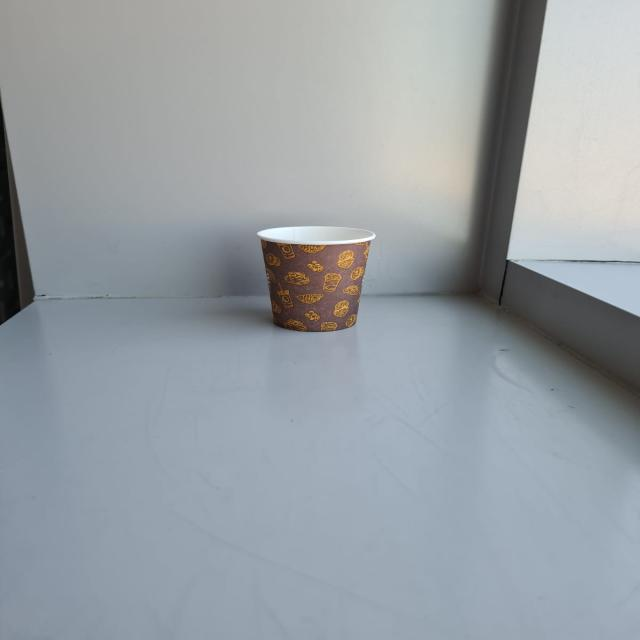cups: (255, 226, 377, 336)
